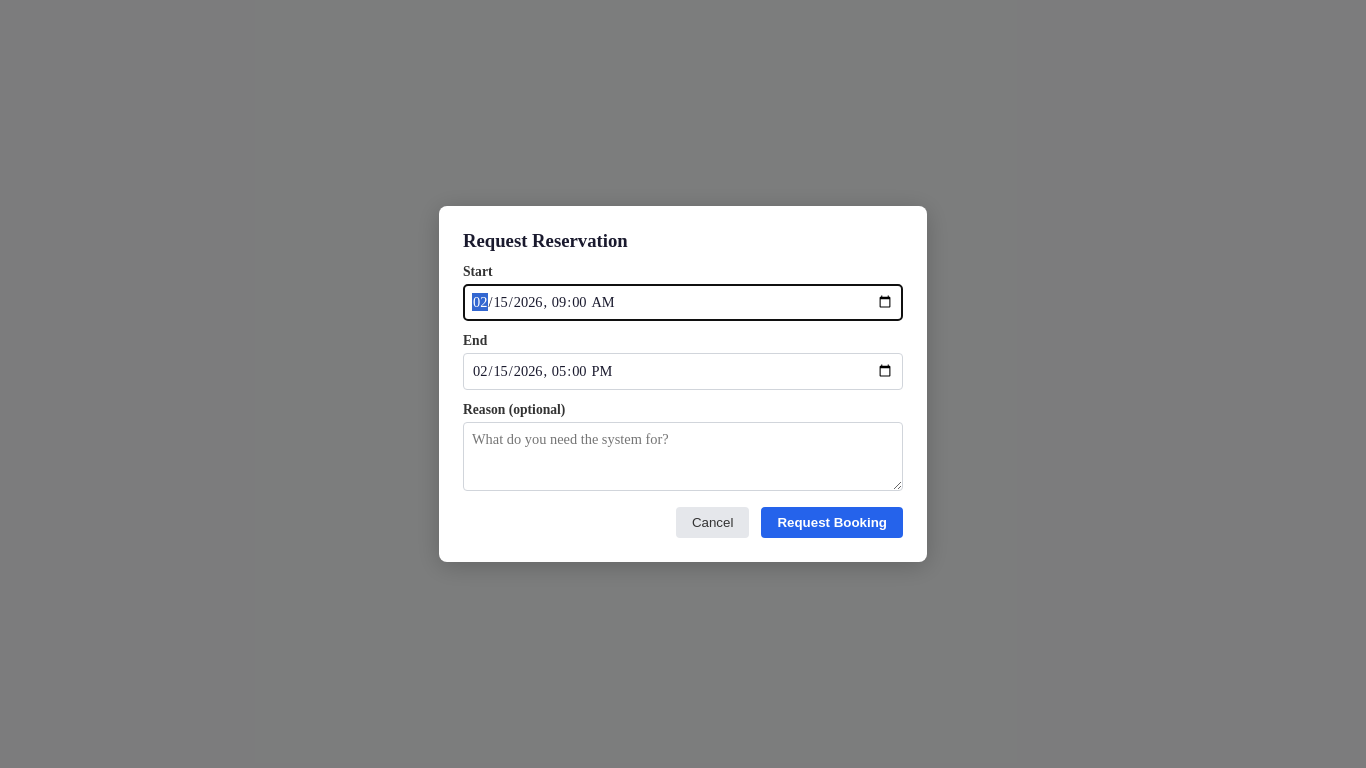
it: ReservationRequestDialog › shows "Submitting..." text while submitting
The width and height of the screenshot is (1366, 768).
Click the button "Request Booking": [832, 522] box left=761, top=507, right=903, bottom=538
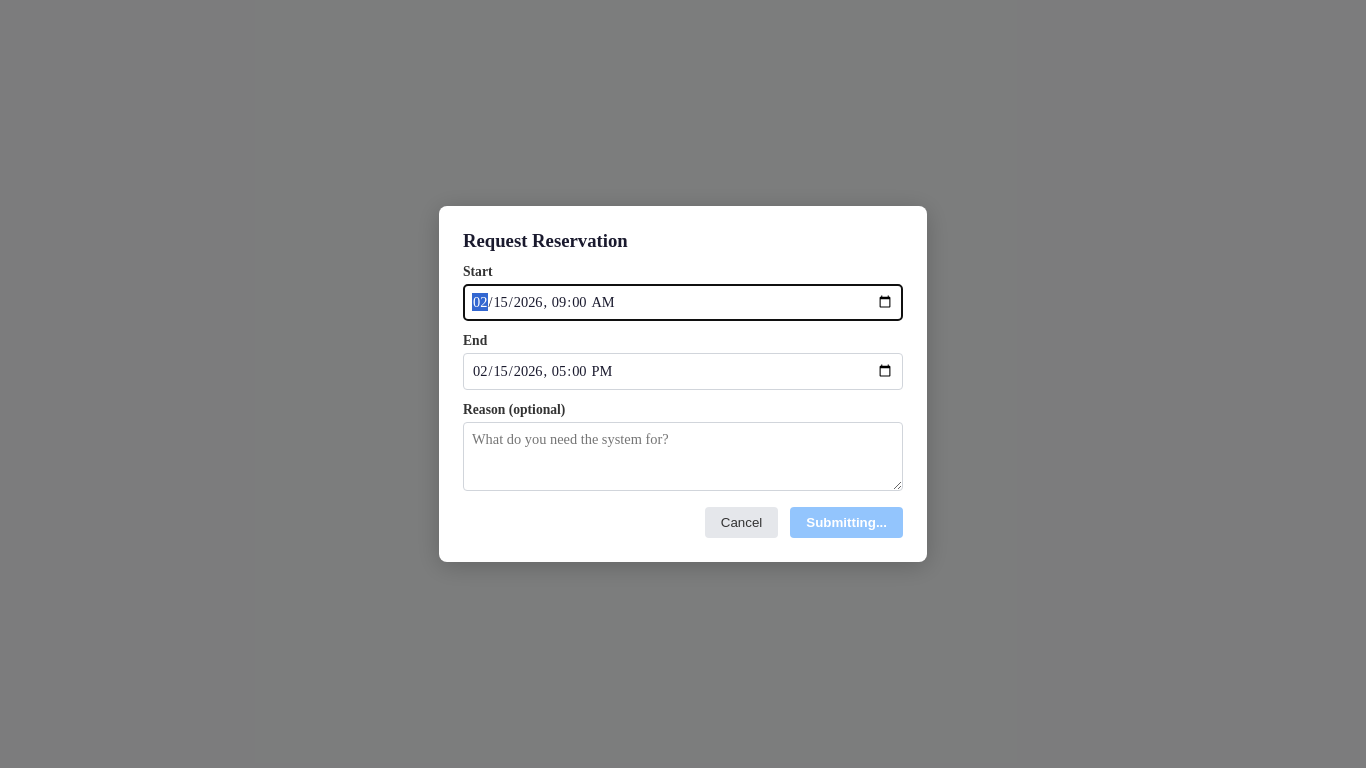
Now the button "Submitting..." is shown, box left=790, top=507, right=903, bottom=538
